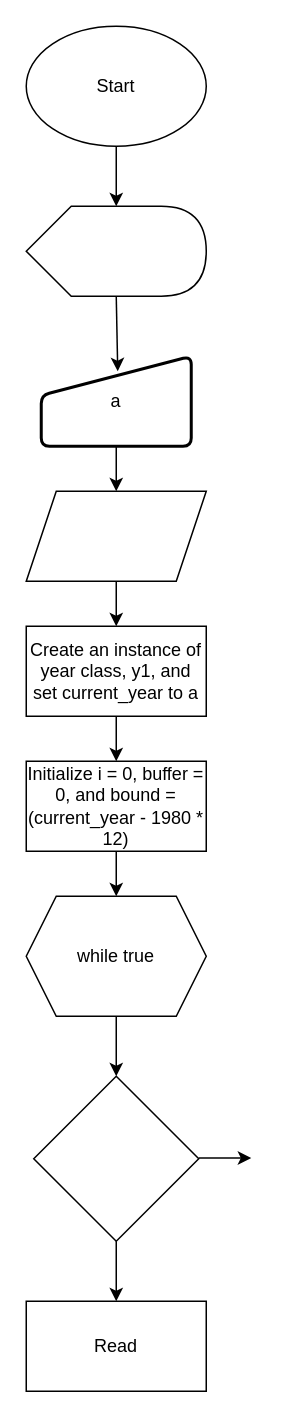
This 290x1418 diagram has some shape labels left out. The shapes that lost their labels are listed below. From the top down, each one's centre as x and y in pixels, then its label:
the point at 115,250: Ask for year between 1980-2007
the point at 115,535: Open W13B_co2data.txt
the point at 115,1158: i >= bound and i < (bound + 12)?
